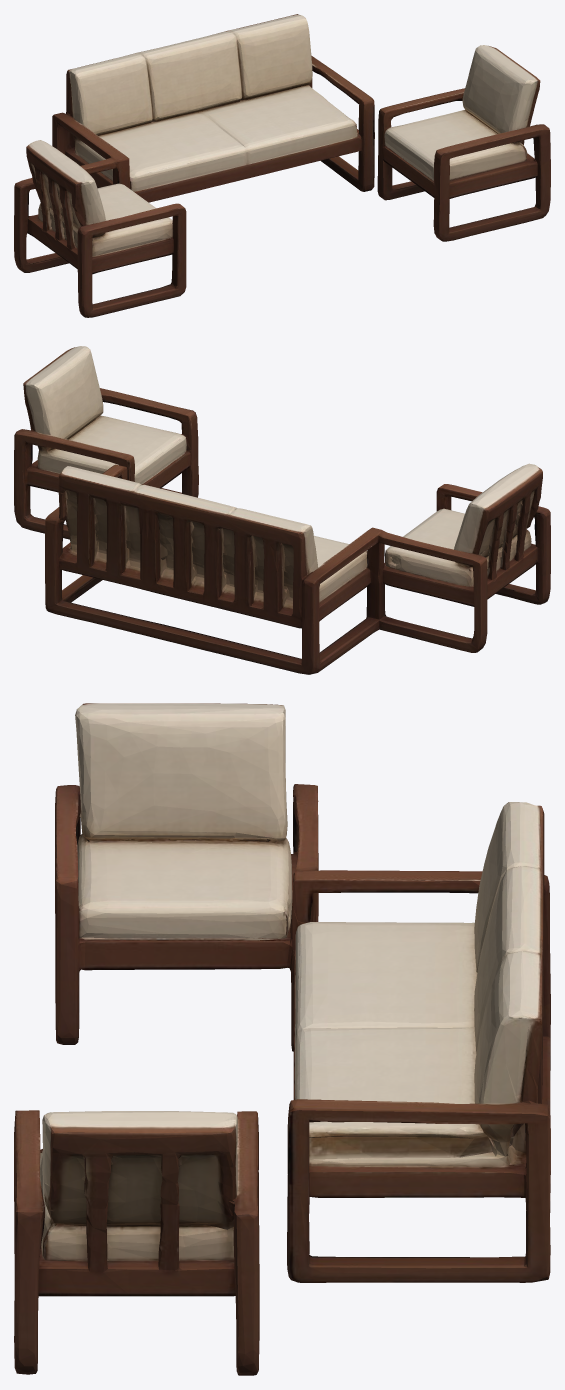
The picture shows the model from 3 angles, top to bottom: view 1: azimuth 30°, elevation 25°; view 2: azimuth 150°, elevation 25°; view 3: azimuth 270°, elevation 25°; orthographic projection. The views are drawn at different scales.
Parts seen in each view (by area): view 1: world; view 2: world; view 3: world.
Part boxes in pixels (x1,y1,x2,y2): world: [14, 14, 550, 317]; world: [14, 346, 550, 674]; world: [14, 703, 550, 1375].
Size of the model in its own units: 3.18 by 0.89 by 1.68.
1 material, 1 textured.
